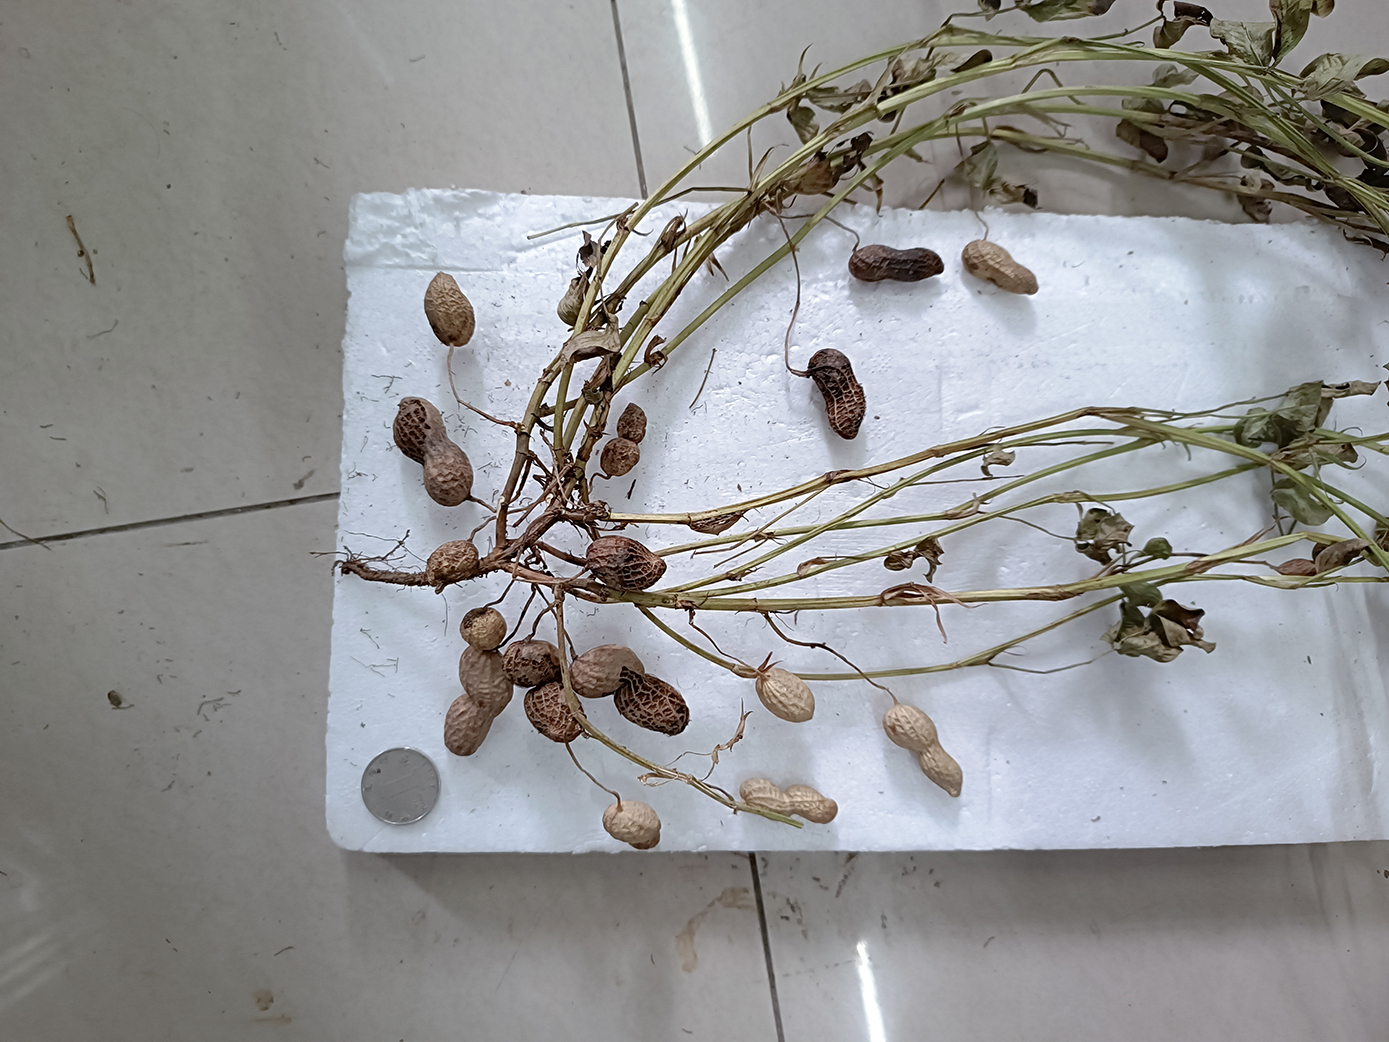h: (444, 646, 514, 756), (883, 704, 963, 799), (739, 777, 838, 825), (961, 238, 1040, 296), (424, 270, 476, 347), (756, 667, 815, 723), (603, 800, 662, 850), (460, 607, 507, 650)
l: (569, 644, 690, 737), (392, 395, 474, 507), (502, 639, 586, 743), (807, 348, 866, 440), (584, 535, 667, 592), (848, 244, 944, 283), (600, 401, 647, 477), (426, 539, 481, 597)
